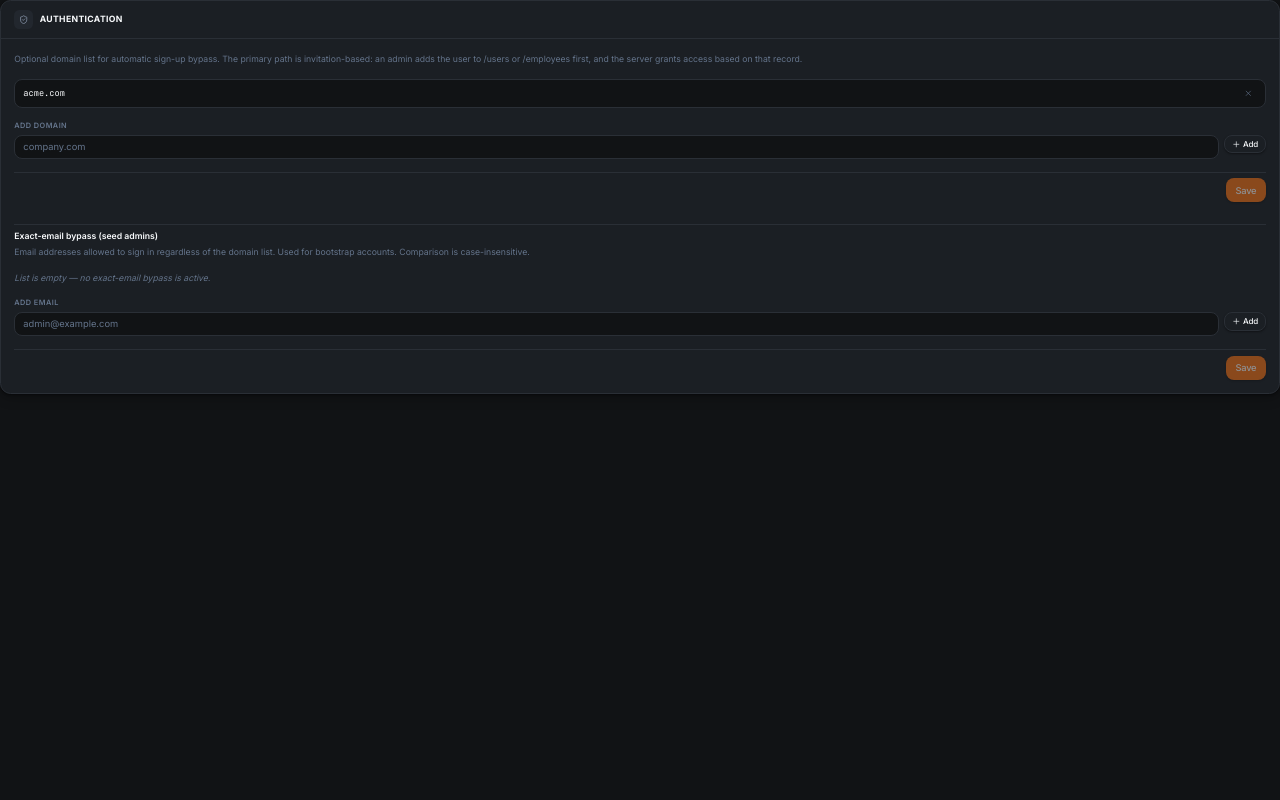
Test: AuthSettingsPanel › shows standard confirm dialog for non-empty save and commits
The image size is (1280, 800).
Expected: the text "acme.com" is shown, [23,87,65,100]
// Make it dirty by adding a domain
Step 1. Type "beta.io" into the field with id "auth-add-domain" → [617, 147], box [14,135,1219,159]
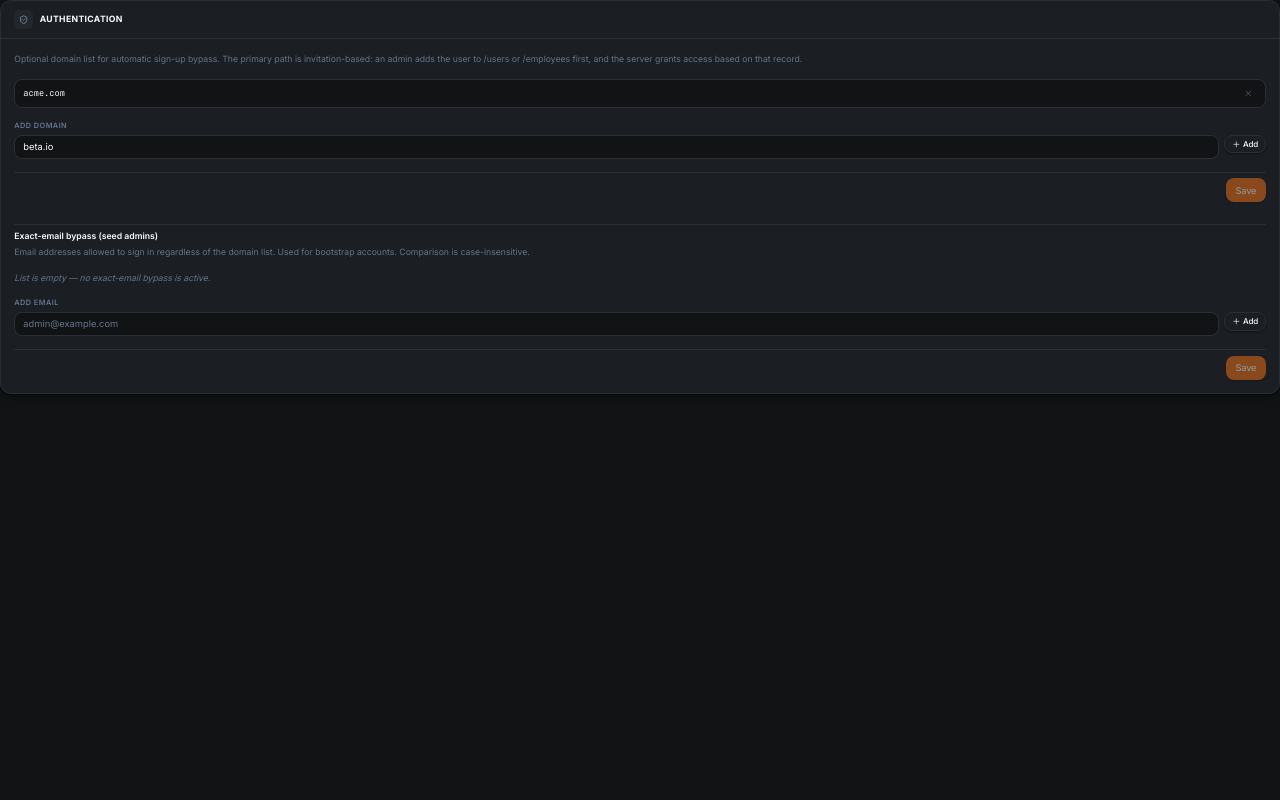
Step 2. Click the 1st button "Add" → [1245, 144], box [1224,135,1266,153]
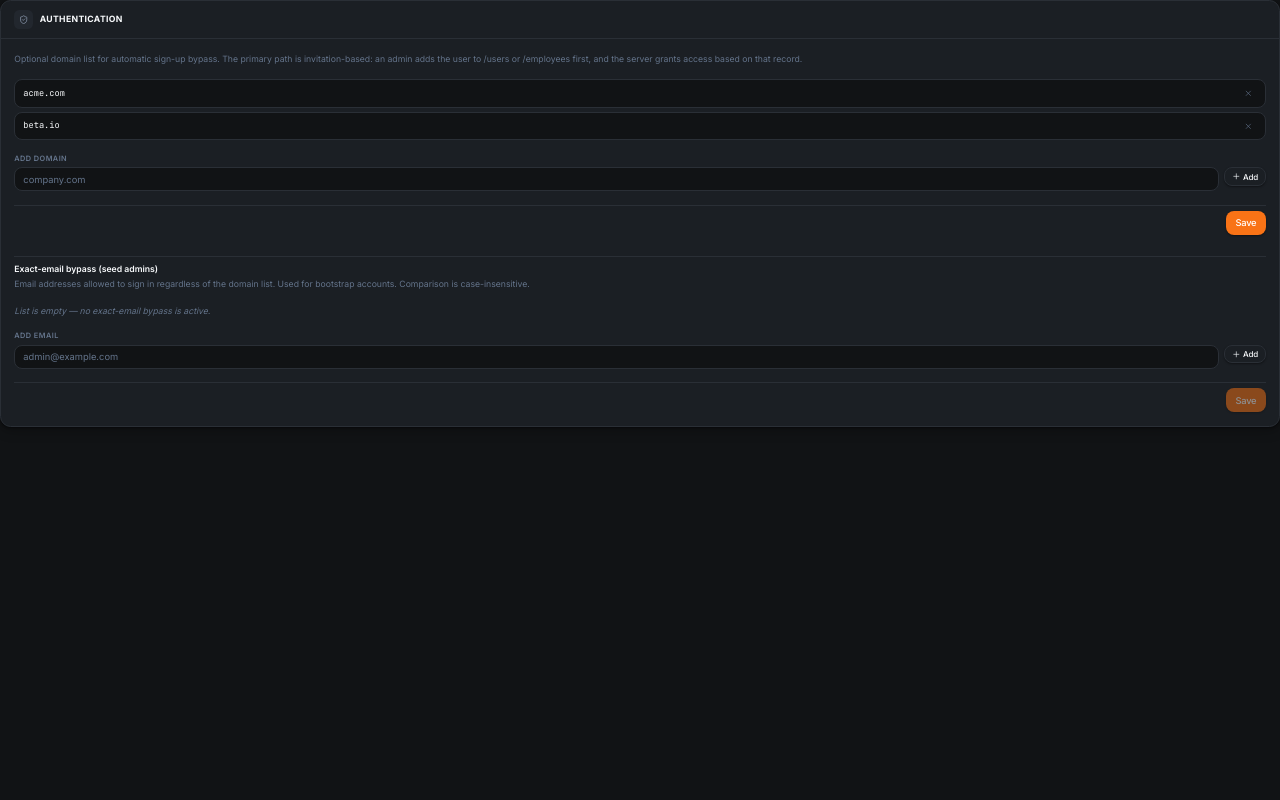
Result: the text "beta.io" is shown at [23,120,60,132]
// Open dialog
Step 3. Click the 1st button "Save" → [1246, 223], box [1226,211,1266,235]
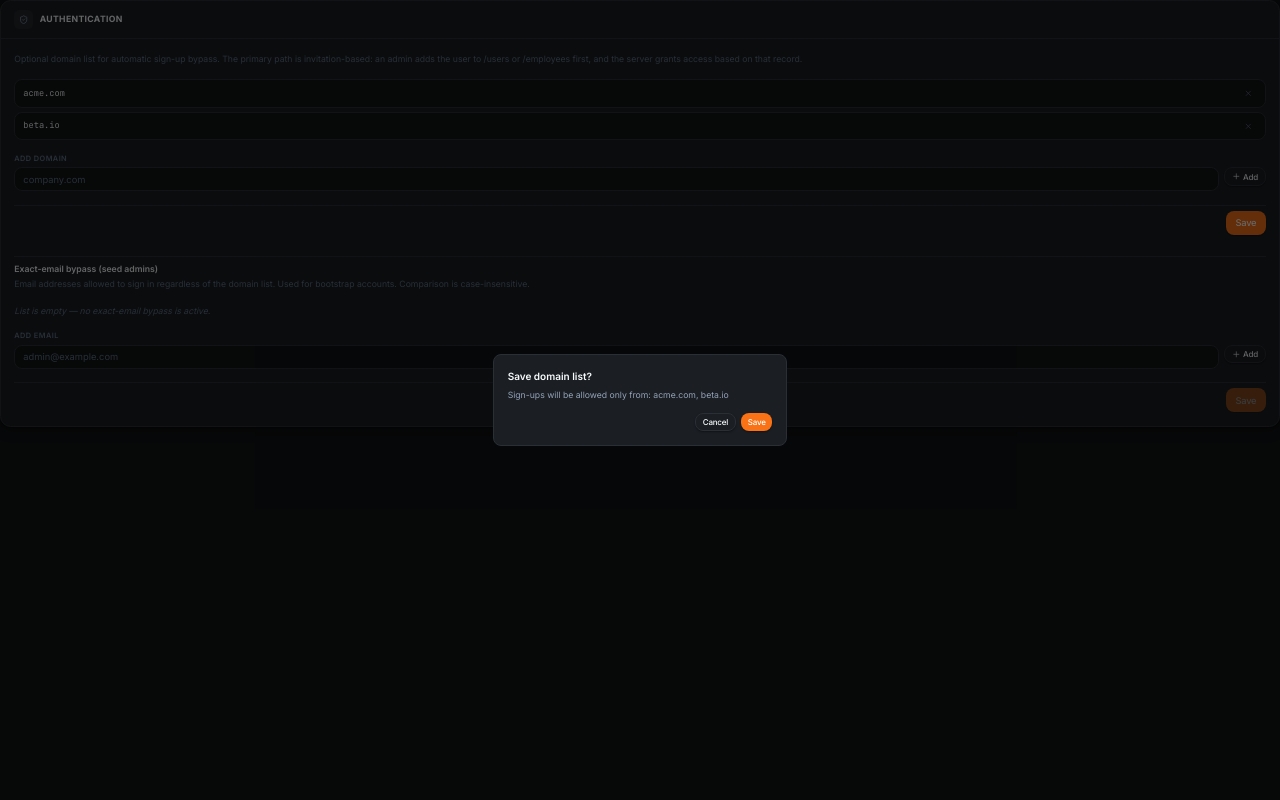
Result: the dialog is shown
// The last button is the primary confirm
Step 4. Click the button "Save" → [757, 422], box [741,413,772,431]
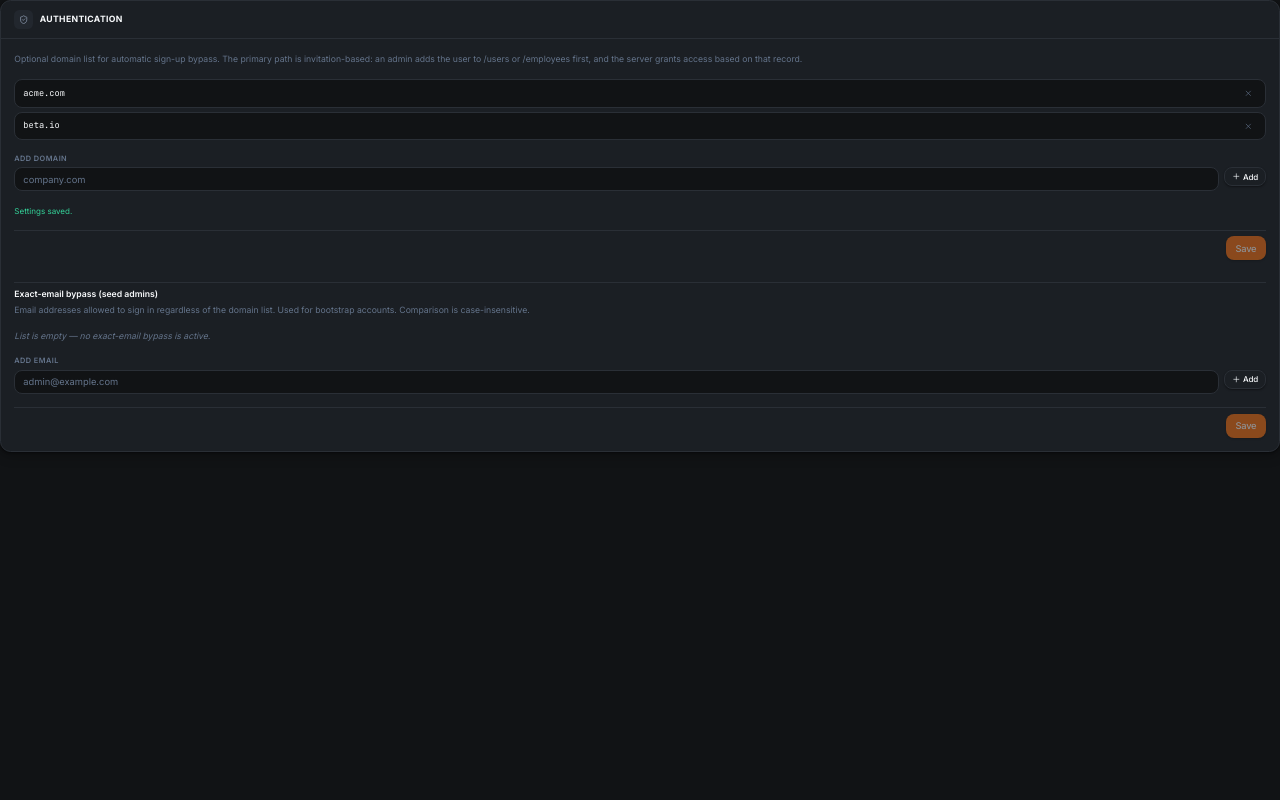
Result: the dialog is gone
Result: the 1st button "Save" is disabled at [1226,236,1266,260]
